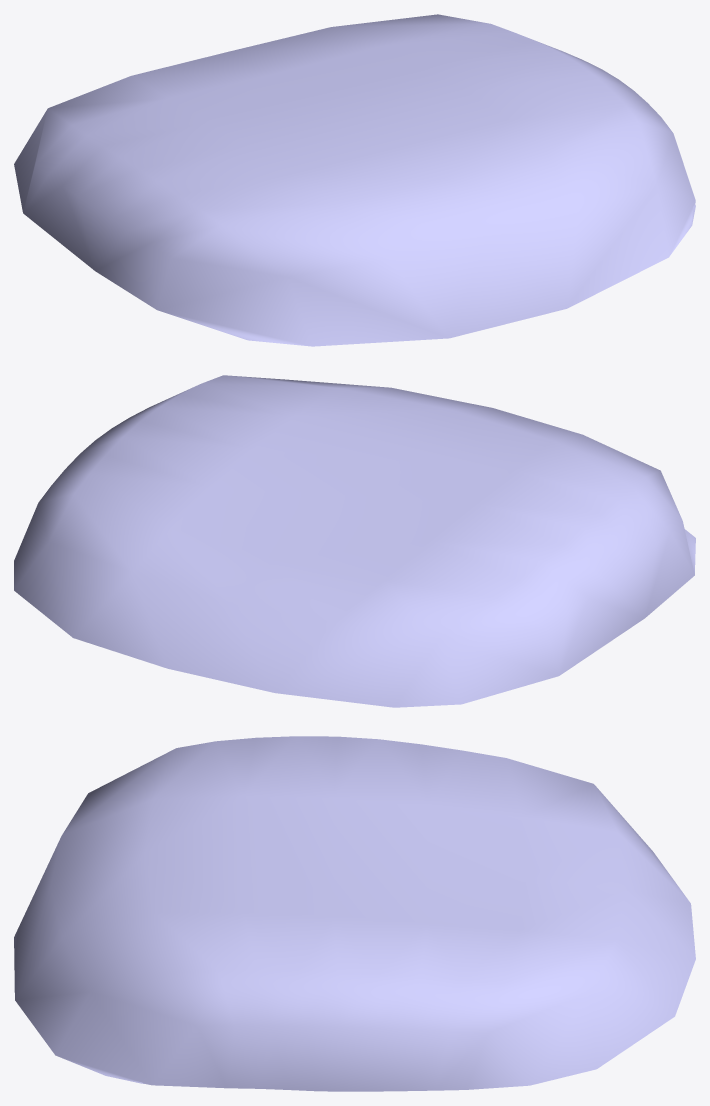
The model's file is original-68.obj.
3 views of the same model, one above another, from view 1: azimuth 30°, elevation 25°; view 2: azimuth 150°, elevation 25°; view 3: azimuth 270°, elevation 25° (orthographic). The views are drawn at different scales.
Visible parts, largest first — view 1: Obj_000066/mesh67/mesh67-geometry#mesh67-geometry; view 2: Obj_000066/mesh67/mesh67-geometry#mesh67-geometry; view 3: Obj_000066/mesh67/mesh67-geometry#mesh67-geometry.
Boxes of the visible parts, box(x1,y1,x2,y2) form: Obj_000066/mesh67/mesh67-geometry#mesh67-geometry: box(14, 14, 695, 346); Obj_000066/mesh67/mesh67-geometry#mesh67-geometry: box(14, 375, 695, 707); Obj_000066/mesh67/mesh67-geometry#mesh67-geometry: box(14, 736, 695, 1091).
Bounding box in the file's own units: 0.6849 × 0.124 × 0.6767.
